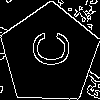C: (24, 30, 69, 68)
